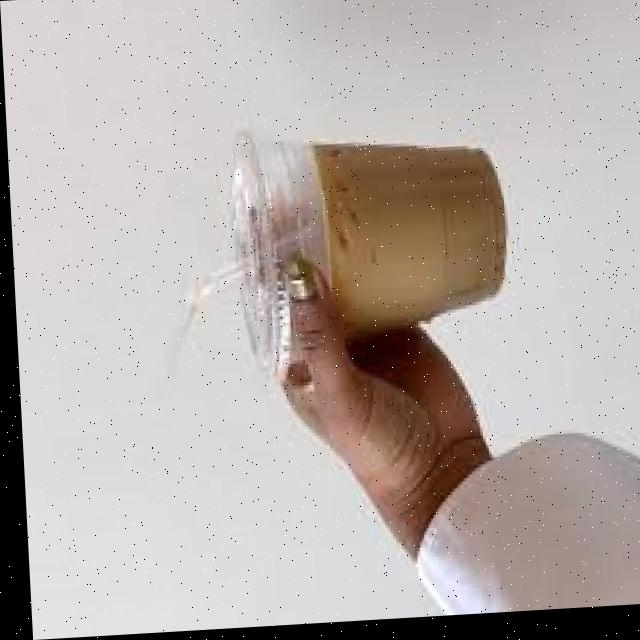cup: (227, 134, 501, 373)
